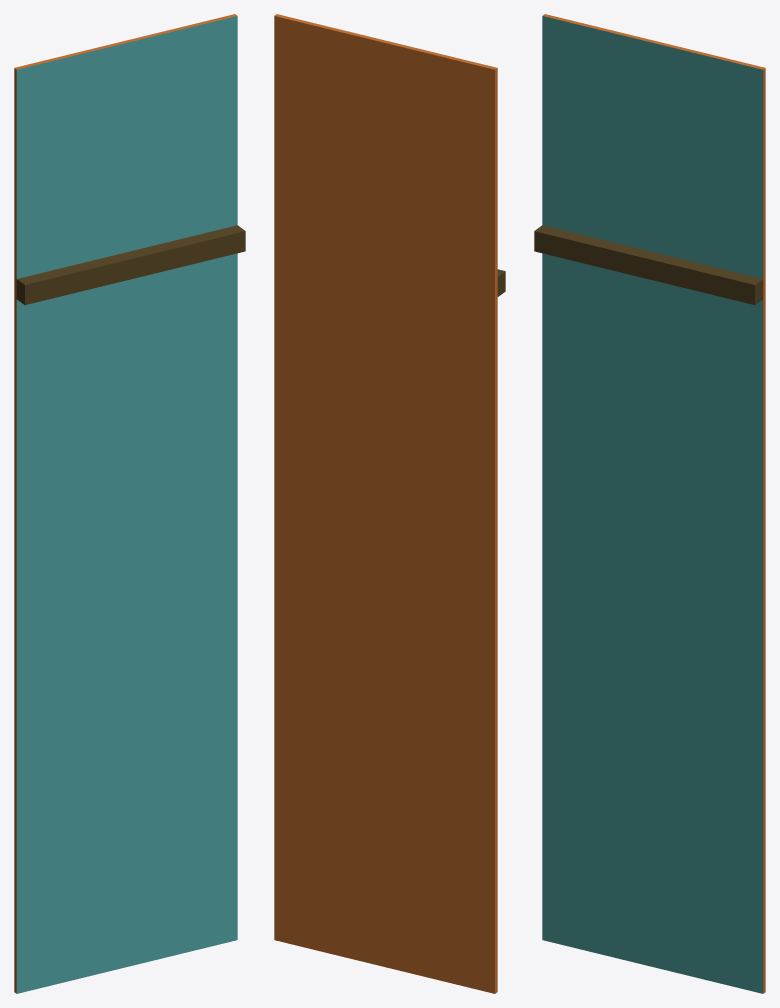
The model's file is simple wall 1m.fbx.
The picture shows the model from 3 angles, left to right: view 1: azimuth 30°, elevation 25°; view 2: azimuth 150°, elevation 25°; view 3: azimuth 330°, elevation 25°; orthographic projection.
Parts seen in each view (by area): view 1: Simple Wall Mesh; view 2: Simple Wall Mesh; view 3: Simple Wall Mesh.
Boxes of the visible parts, <box> form: Simple Wall Mesh: <box>14,14,245,993</box>; Simple Wall Mesh: <box>274,14,505,993</box>; Simple Wall Mesh: <box>534,14,765,993</box>.
Bounding box in the file's own units: 99.95 × 400 × 8.44.
